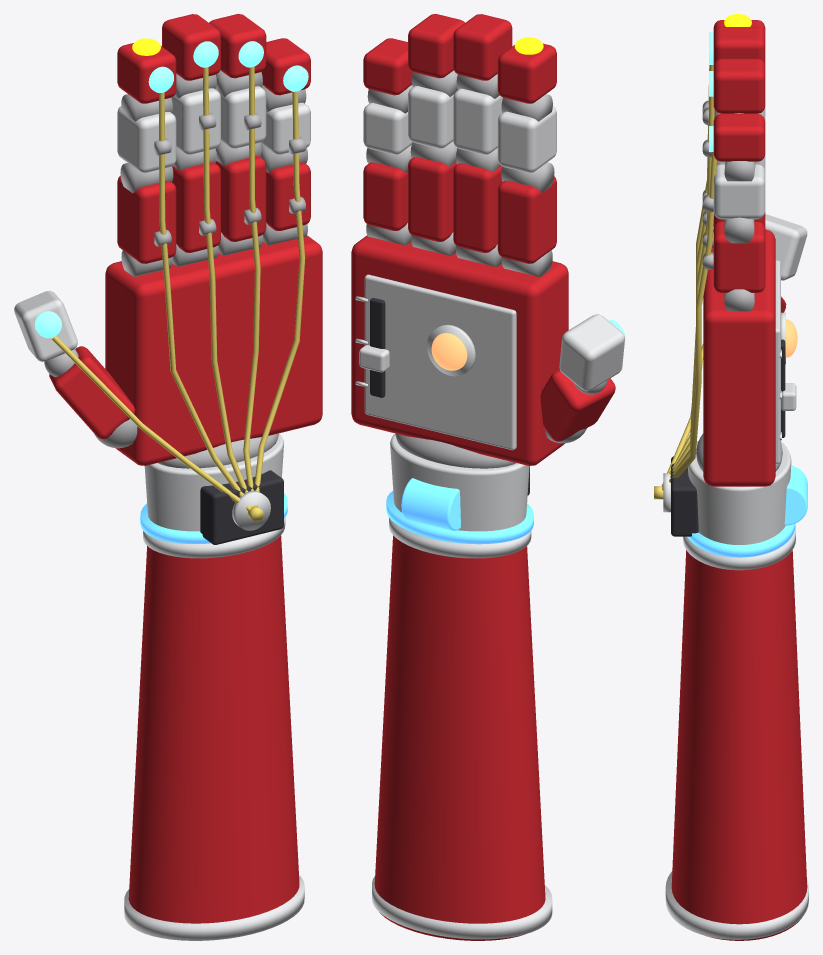
File: Protesis_Mano_v2_LOD0.fbx
3 views of the same model, side by side, from view 1: azimuth 30°, elevation 25°; view 2: azimuth 150°, elevation 25°; view 3: azimuth 270°, elevation 25° (orthographic). The views are drawn at different scales.
Parts seen in each view (by area): view 1: Antebrazo_LOD0, Palma_LOD0, Muneca_Conector_LOD0, Indice_Proximal_LOD0, Pulgar_Proximal_LOD0, Antebrazo_Anillo_Base_LOD0, F2_Servomotor_LOD0, Medio_Proximal_LOD0, Anular_Proximal_LOD0, Indice_Media_LOD0, F2_Cable_Medio_LOD0, Medio_Distal_LOD0 (+21 smaller); view 2: Antebrazo_LOD0, Palma_Placa_Dorso_LOD0, Palma_LOD0, Muneca_Conector_LOD0, Indice_Proximal_LOD0, Medio_Proximal_LOD0, Pulgar_Distal_LOD0, Anular_Proximal_LOD0, Antebrazo_Anillo_Base_LOD0, Pulgar_Proximal_LOD0, Indice_Media_LOD0, Medio_Distal_LOD0 (+27 smaller); view 3: Antebrazo_LOD0, Palma_LOD0, Muneca_Conector_LOD0, Menique_Proximal_LOD0, Anular_Distal_LOD0, Antebrazo_Anillo_Base_LOD0, Menique_Distal_LOD0, Menique_Media_LOD0, F2_Cable_Menique_LOD0, Medio_Distal_LOD0, F2_Servomotor_LOD0, Pulgar_Distal_LOD0 (+14 smaller).
Part boxes in pixels (x1,y1,x2,y2): Antebrazo_LOD0: [128, 535, 299, 923]; Palma_LOD0: [105, 235, 322, 465]; Muneca_Conector_LOD0: [144, 433, 283, 531]; Indice_Proximal_LOD0: [117, 175, 176, 263]; Pulgar_Proximal_LOD0: [49, 346, 135, 438]; Antebrazo_Anillo_Base_LOD0: [124, 875, 304, 940]; F2_Servomotor_LOD0: [200, 470, 283, 544]; Medio_Proximal_LOD0: [172, 162, 220, 252]; Anular_Proximal_LOD0: [215, 156, 266, 241]; Indice_Media_LOD0: [117, 106, 176, 172]; F2_Cable_Medio_LOD0: [203, 67, 253, 506]; Medio_Distal_LOD0: [162, 14, 220, 80]; Antebrazo_LOD0: [374, 535, 545, 940]; Palma_Placa_Dorso_LOD0: [364, 274, 516, 450]; Palma_LOD0: [351, 235, 568, 465]; Muneca_Conector_LOD0: [390, 433, 529, 531]; Indice_Proximal_LOD0: [497, 176, 556, 263]; Medio_Proximal_LOD0: [453, 163, 502, 252]; Pulgar_Distal_LOD0: [559, 314, 624, 391]; Anular_Proximal_LOD0: [408, 157, 456, 241]; Antebrazo_Anillo_Base_LOD0: [372, 876, 552, 939]; Pulgar_Proximal_LOD0: [540, 370, 615, 441]; Indice_Media_LOD0: [497, 106, 556, 172]; Medio_Distal_LOD0: [453, 14, 512, 80]; Antebrazo_LOD0: [671, 550, 807, 940]; Palma_LOD0: [703, 229, 775, 486]; Muneca_Conector_LOD0: [688, 441, 791, 544]; Menique_Proximal_LOD0: [713, 221, 765, 292]; Anular_Distal_LOD0: [713, 58, 765, 113]; Antebrazo_Anillo_Base_LOD0: [665, 871, 808, 939]; Menique_Distal_LOD0: [713, 113, 765, 161]; Menique_Media_LOD0: [713, 164, 765, 219]; F2_Cable_Menique_LOD0: [662, 152, 716, 490]; Medio_Distal_LOD0: [713, 27, 765, 65]; F2_Servomotor_LOD0: [671, 456, 698, 536]; Pulgar_Distal_LOD0: [765, 214, 807, 280].
Size of the model in its own units: 2.34 by 7.35 by 1.2.
